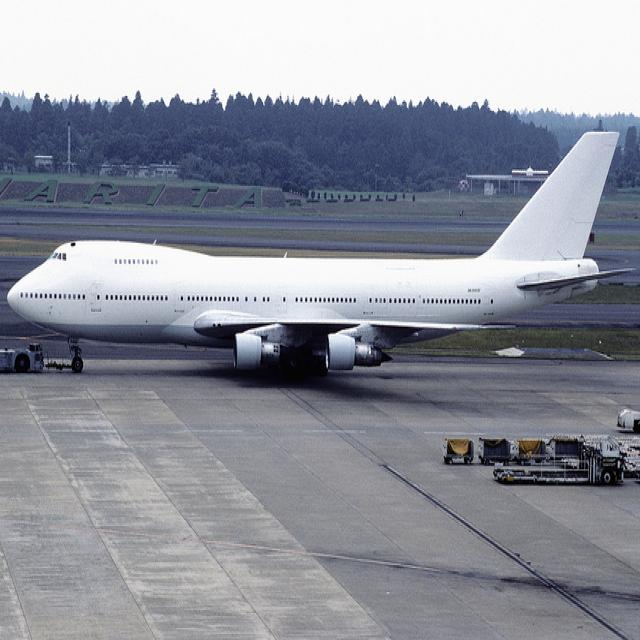Vehicle: (494, 434, 624, 490), (478, 436, 515, 466)
